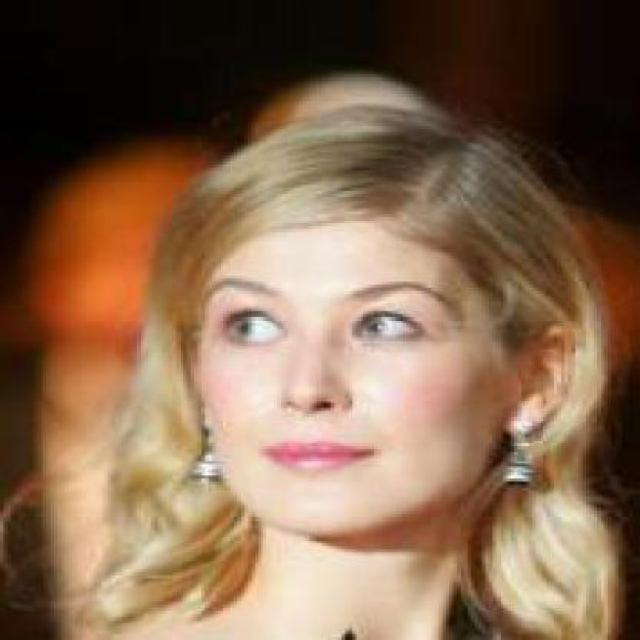closed-mouth: (259, 439, 370, 468)
